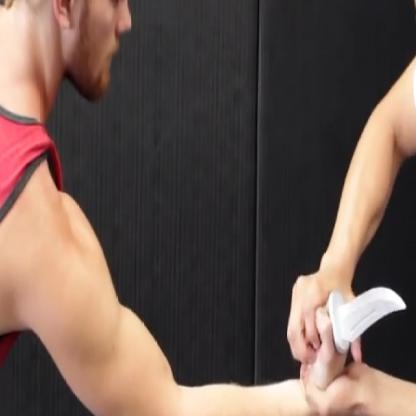knife: (297, 272, 415, 374)
